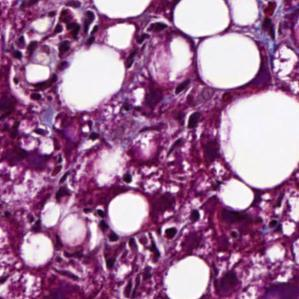inflammation: (9, 6, 97, 62), (146, 202, 205, 266)
